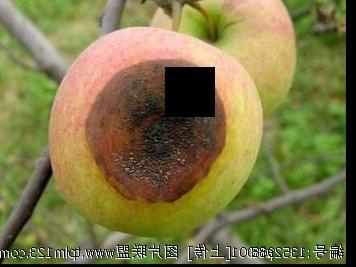rotten apple: (49, 26, 261, 240)
